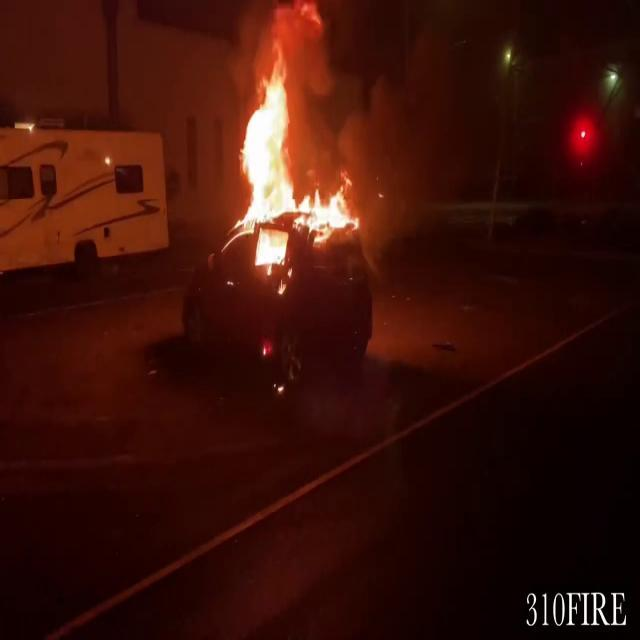Fire: (226, 41, 358, 265)
